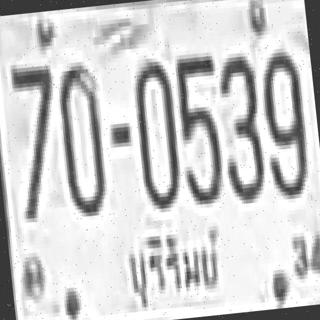N00: (53, 57, 107, 214), (129, 56, 181, 206)
N03: (214, 52, 264, 201)
N05: (172, 48, 224, 202)
N07: (8, 62, 64, 219)
N09: (257, 43, 310, 197)
P06: (119, 219, 229, 316)
